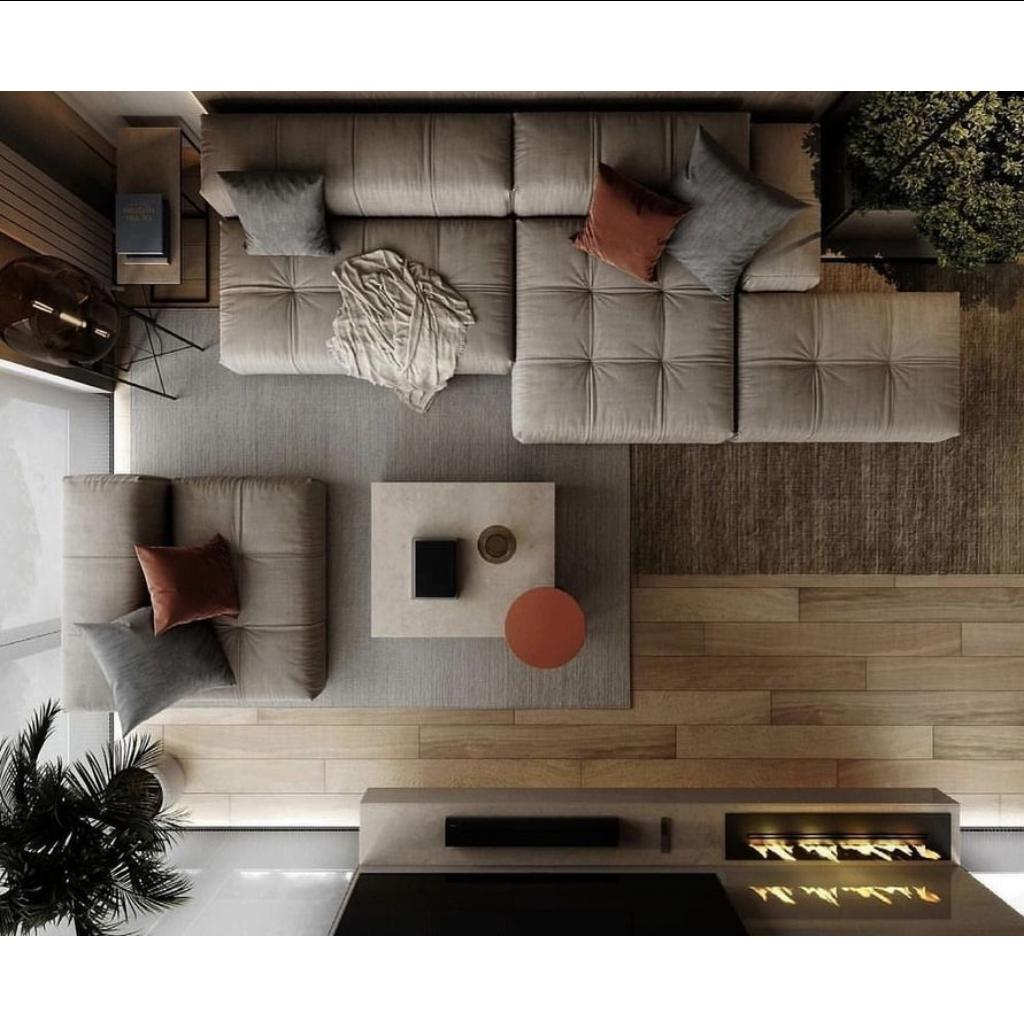TV stand: (334, 786, 728, 932)
chair: (66, 476, 322, 702)
chair-bed: (516, 113, 736, 441)
coffee table: (371, 481, 589, 669)
fireplace: (734, 788, 960, 932)
floor lamp: (130, 314, 196, 396)
floor plant: (843, 104, 1009, 254), (110, 746, 188, 822)
ottoman: (744, 295, 958, 435)
rug: (125, 304, 633, 710), (634, 99, 1022, 573)
side table: (115, 120, 189, 290)
sofa: (201, 114, 513, 374)
window: (0, 363, 26, 641), (27, 908, 325, 932), (0, 646, 26, 878)
